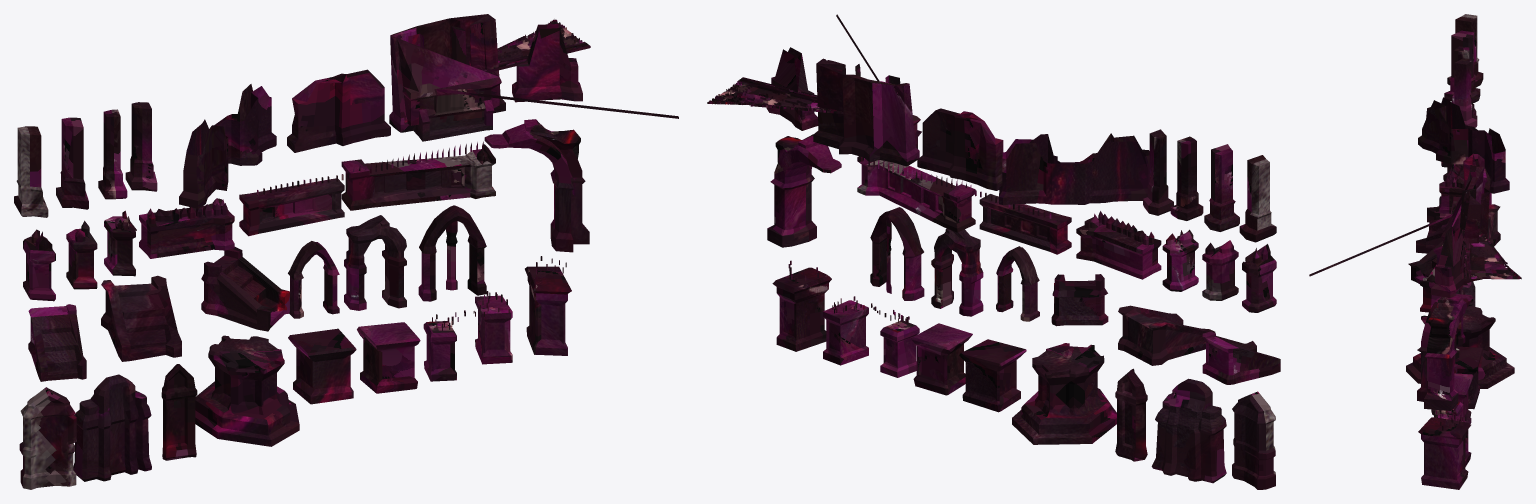
File: terrain-abyss-chancel-feature-protrusions.obj
The picture shows the model from 3 angles, left to right: view 1: azimuth 30°, elevation 25°; view 2: azimuth 150°, elevation 25°; view 3: azimuth 270°, elevation 25°; orthographic projection. The views are drawn at different scales.
Parts seen in each view (by area): view 1: TerrainAbyssChancelFeatureProtrusions; view 2: TerrainAbyssChancelFeatureProtrusions; view 3: TerrainAbyssChancelFeatureProtrusions.
Part boxes in pixels (x1,y1,x2,y2): TerrainAbyssChancelFeatureProtrusions: [14, 14, 678, 489]; TerrainAbyssChancelFeatureProtrusions: [707, 14, 1280, 489]; TerrainAbyssChancelFeatureProtrusions: [1309, 14, 1521, 489].
Size of the model in its own units: 1.9 by 1.13 by 0.7564.
